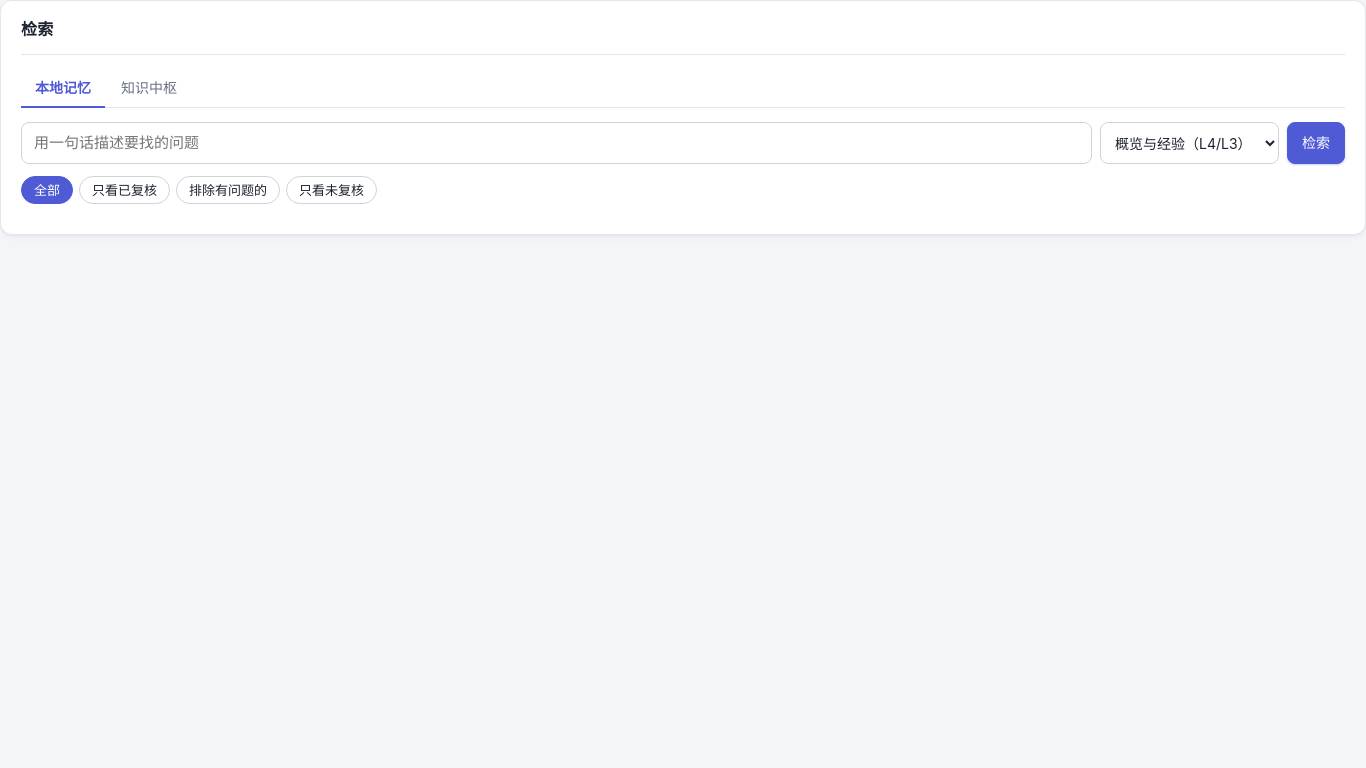
Test: 检索缺口与重试 › 真实结构化缺口合并为可读提示，未知原因和组包信息也不会变成空行
Type "虚拟环境" into the field labelled "问题" at {"x": 556, "y": 143}, box [21,122,1092,164]
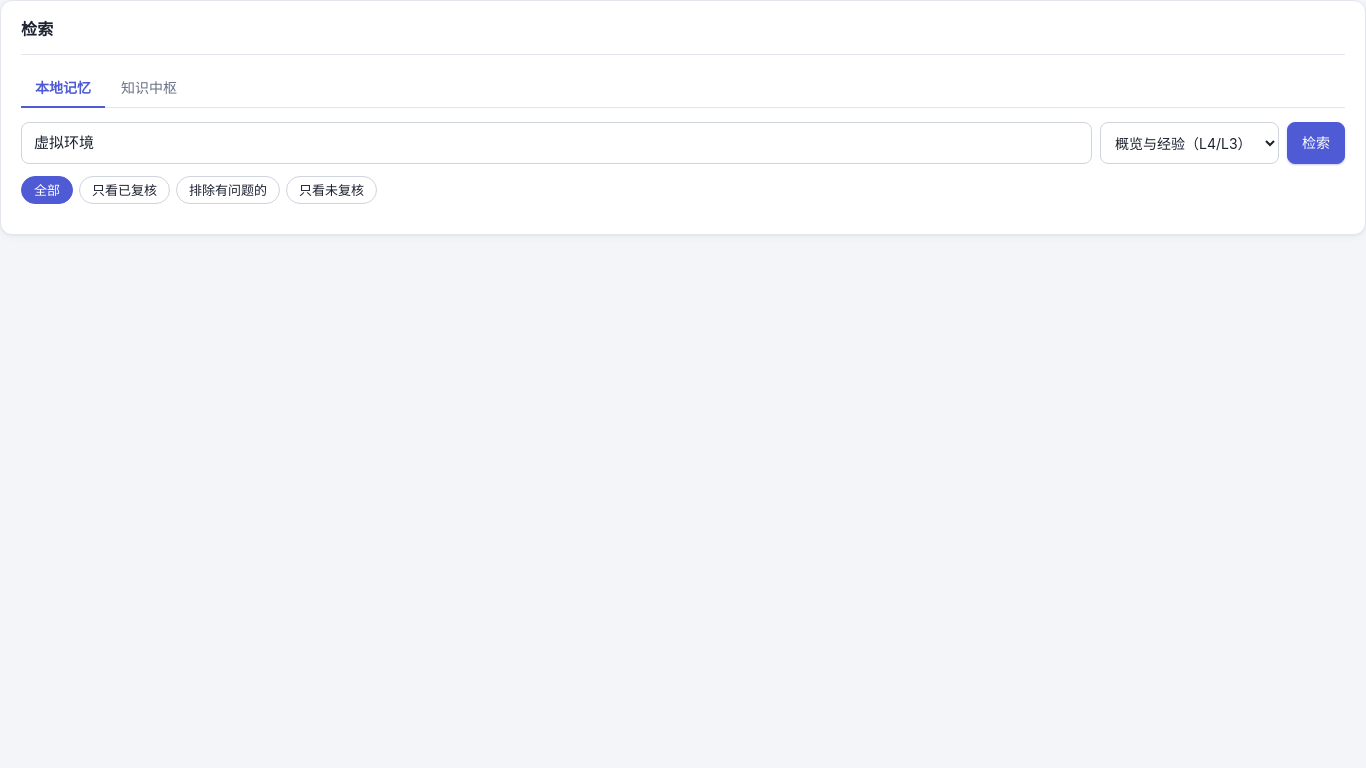
Click the button "检索" at {"x": 1316, "y": 143}, box [1287,122,1345,164]
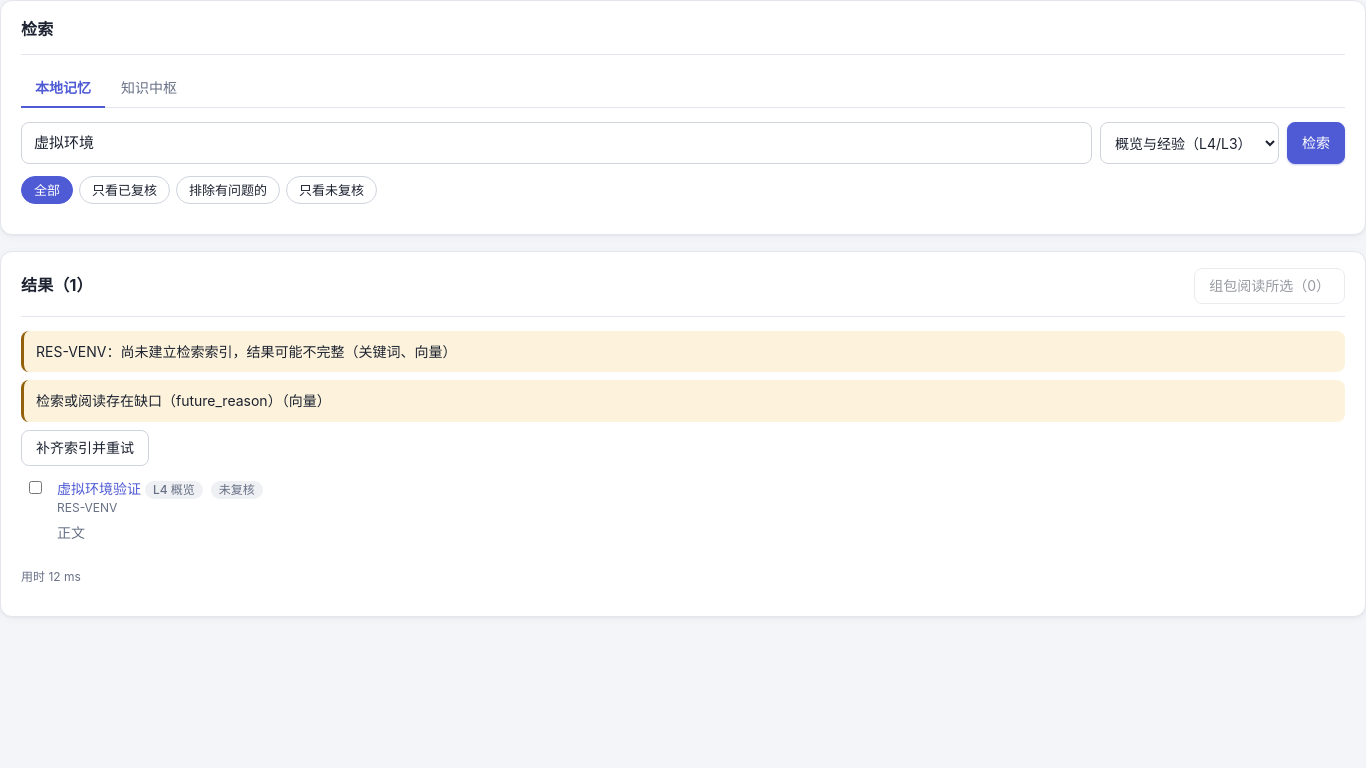
Check: the text "RES-VENV：尚未建立检索索引，结果可能不完整（关键词、向量）" is shown, box [21,331,1345,372]
Check: the number of elements with class "notice" is 2, box [21,331,1345,372]; [21,380,1345,422]
Check: the text "检索或阅读存在缺口（future_reason）（向量）" is shown, box [21,380,1345,422]
Click the checkbox named "选择 虚拟环境验证" at {"x": 36, "y": 487}, box [29,481,42,494]
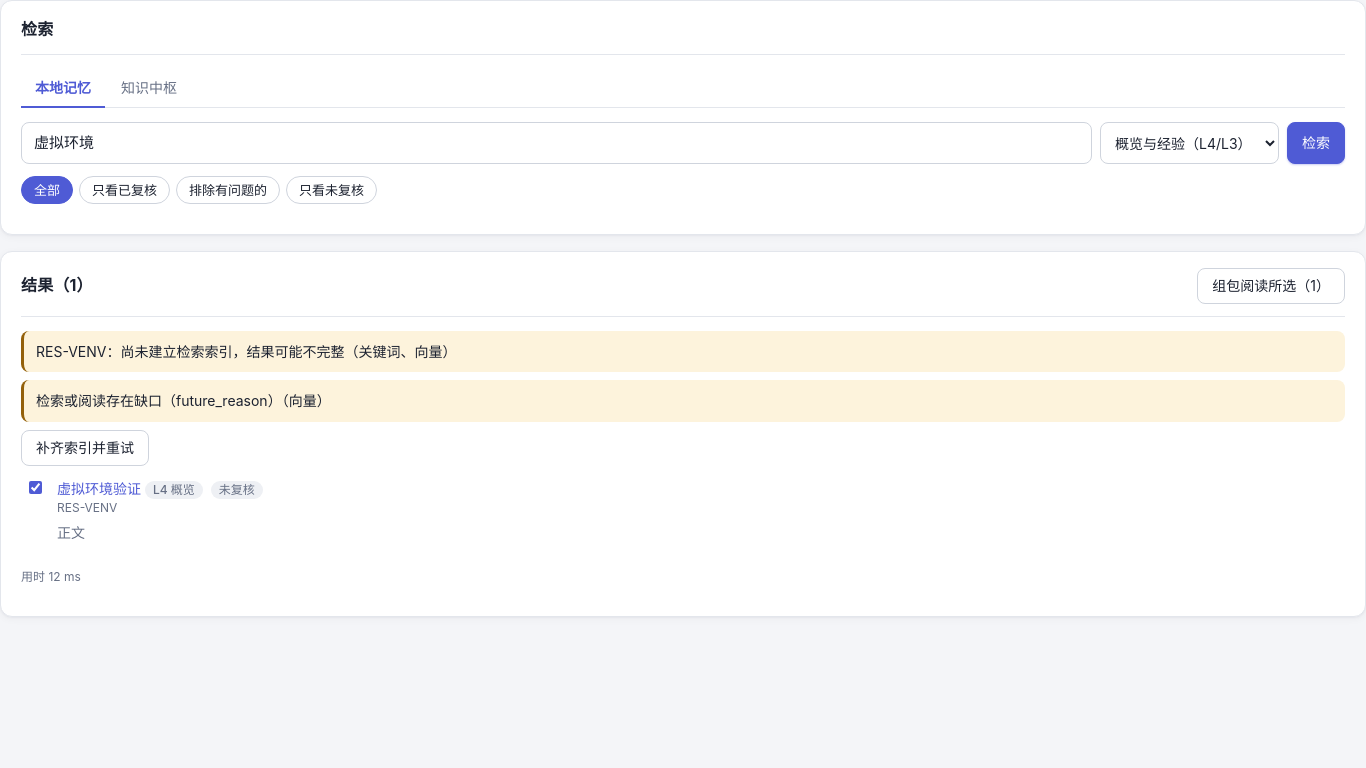
Click the button "组包阅读所选（1）" at {"x": 1271, "y": 286}, box [1197,268,1345,304]
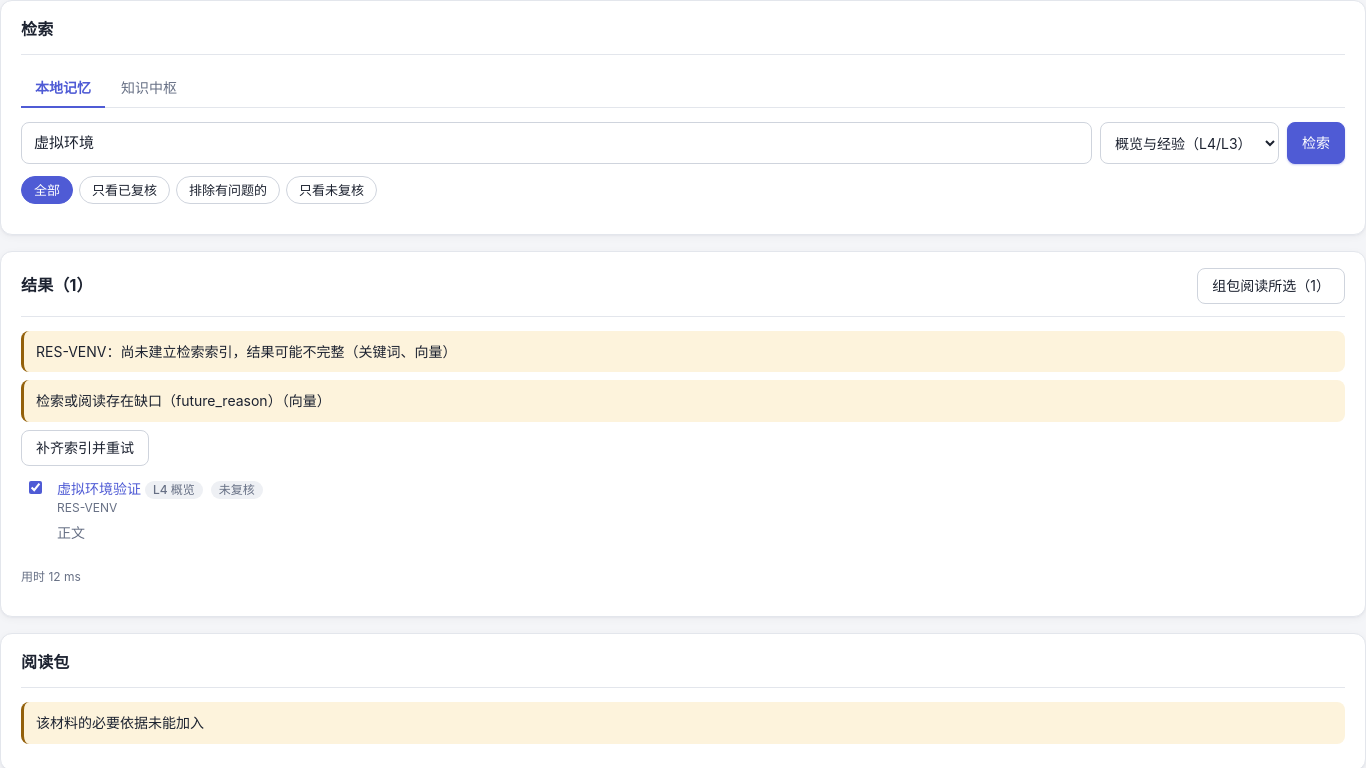
Check: the text "该材料的必要依据未能加入" is shown, box [21,702,1345,744]
